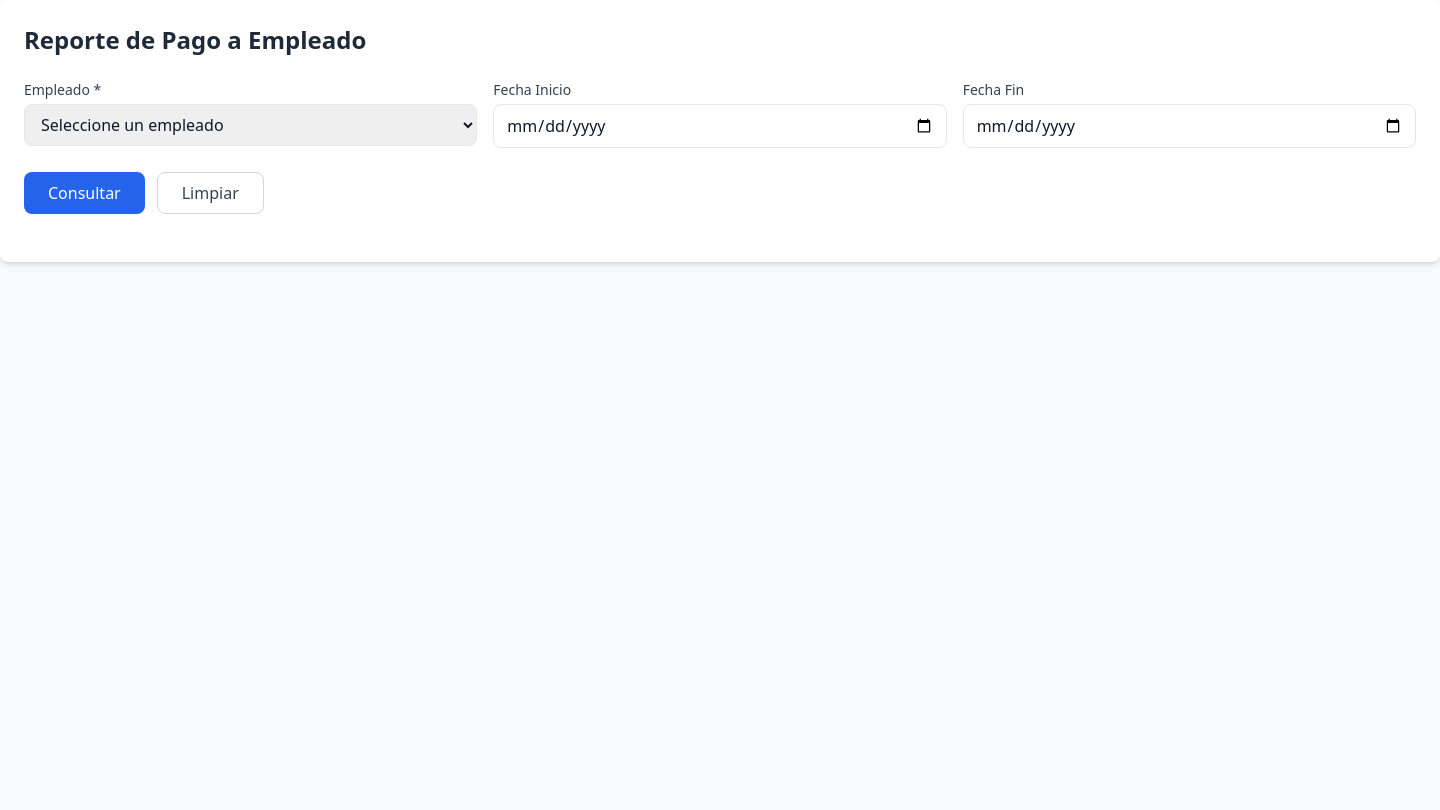
it: PagoEmpleadoReport › muestra tabla con desglose de servicios
The width and height of the screenshot is (1440, 810).
Select "Juan Pérez" in the dropdown: (251, 125) [24,104,477,146]
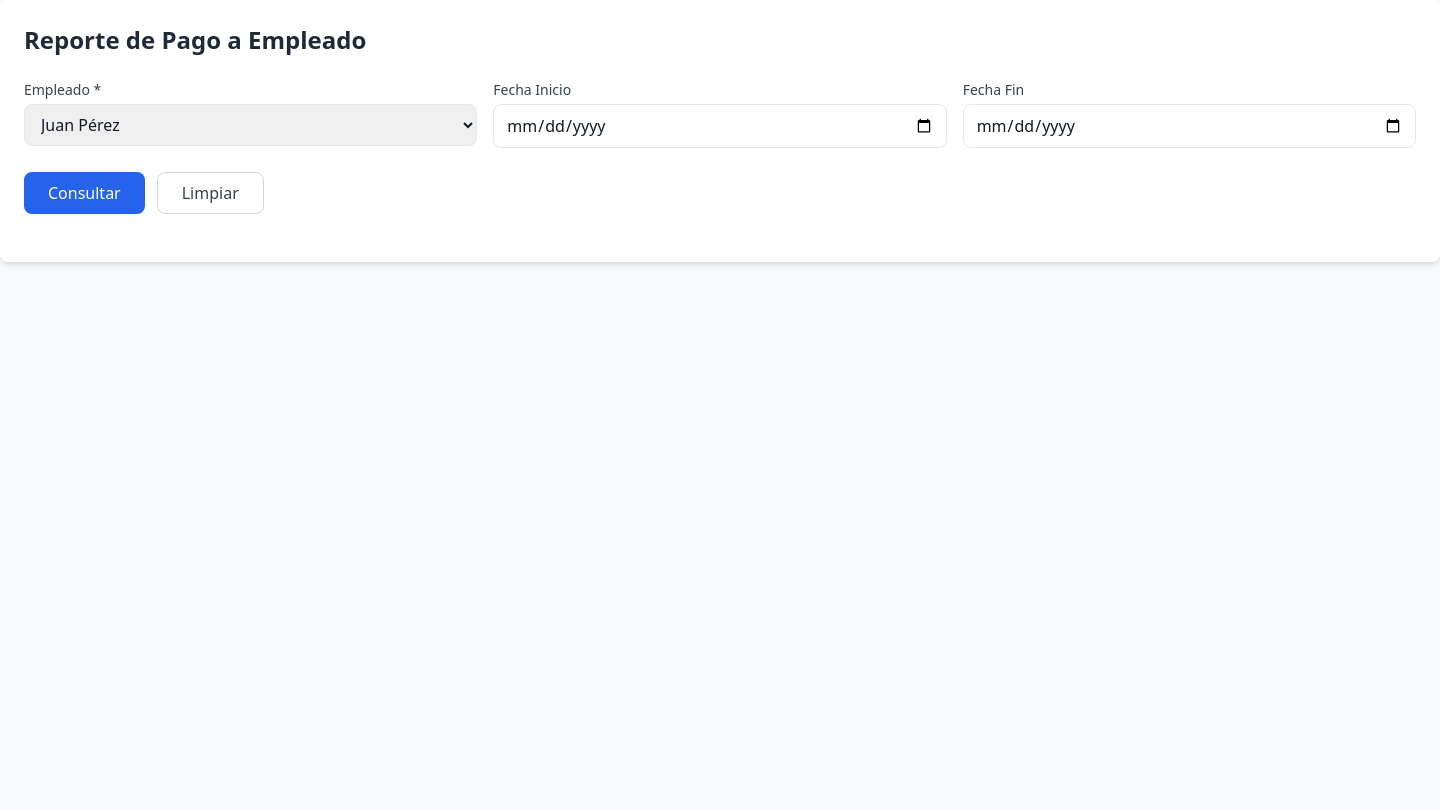
Click the button "Consultar": click(84, 193) [24,172,145,214]
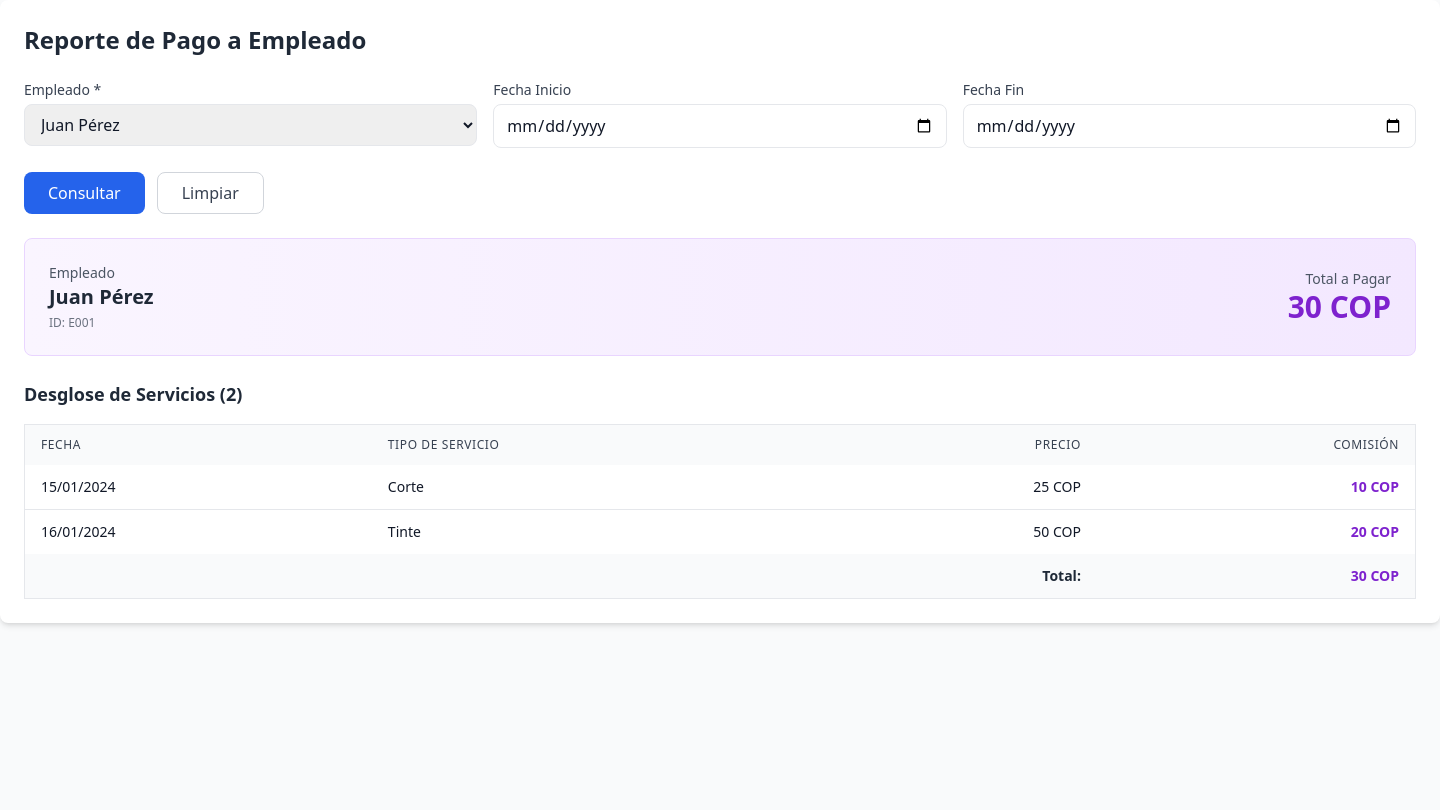
Expected: the text "Desglose de Servicios" is shown, [24,382,242,406]
Expected: the text "Corte" is shown, [372,465,838,510]
Expected: the text "Tinte" is shown, [372,510,838,554]
